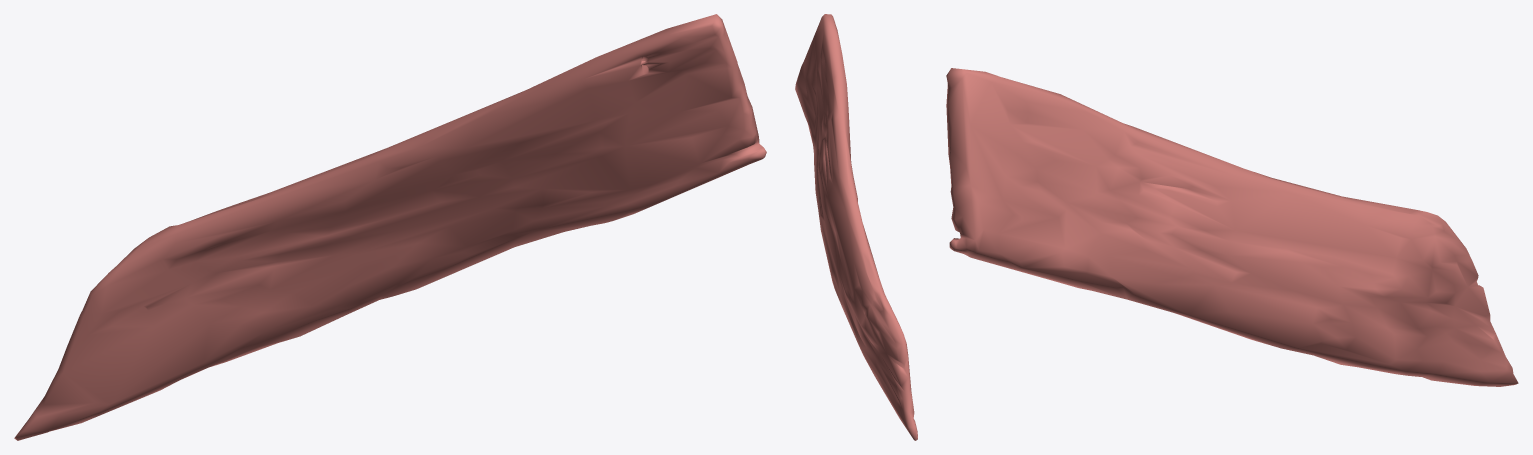
The picture shows the model from 3 angles, left to right: view 1: azimuth 30°, elevation 25°; view 2: azimuth 150°, elevation 25°; view 3: azimuth 270°, elevation 25°; orthographic projection. The views are drawn at different scales.
Parts seen in each view (by area): view 1: ZA_15bfc90dc2bd398c; view 2: ZA_15bfc90dc2bd398c; view 3: ZA_15bfc90dc2bd398c.
Part boxes in pixels (<box>): ZA_15bfc90dc2bd398c: <box>14,14,766,440</box>; ZA_15bfc90dc2bd398c: <box>795,14,917,440</box>; ZA_15bfc90dc2bd398c: <box>946,68,1518,386</box>.
Size of the model in its own units: 0.0856 by 0.0861 by 0.0827.
